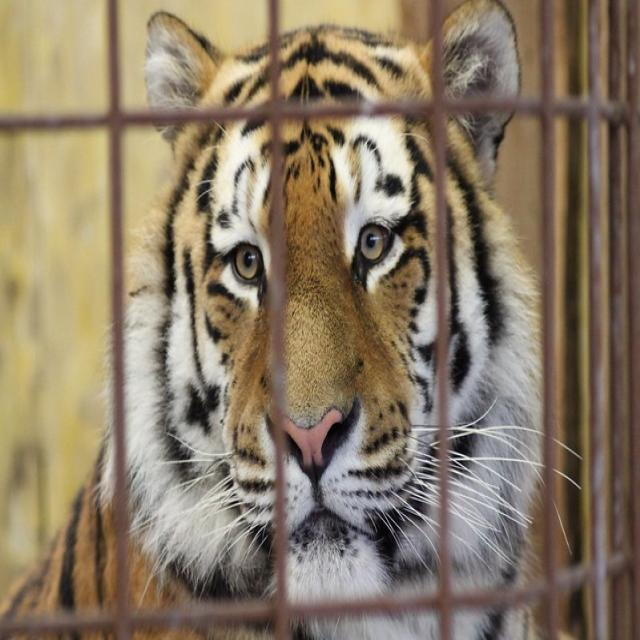Tiger: (0, 1, 550, 636)
